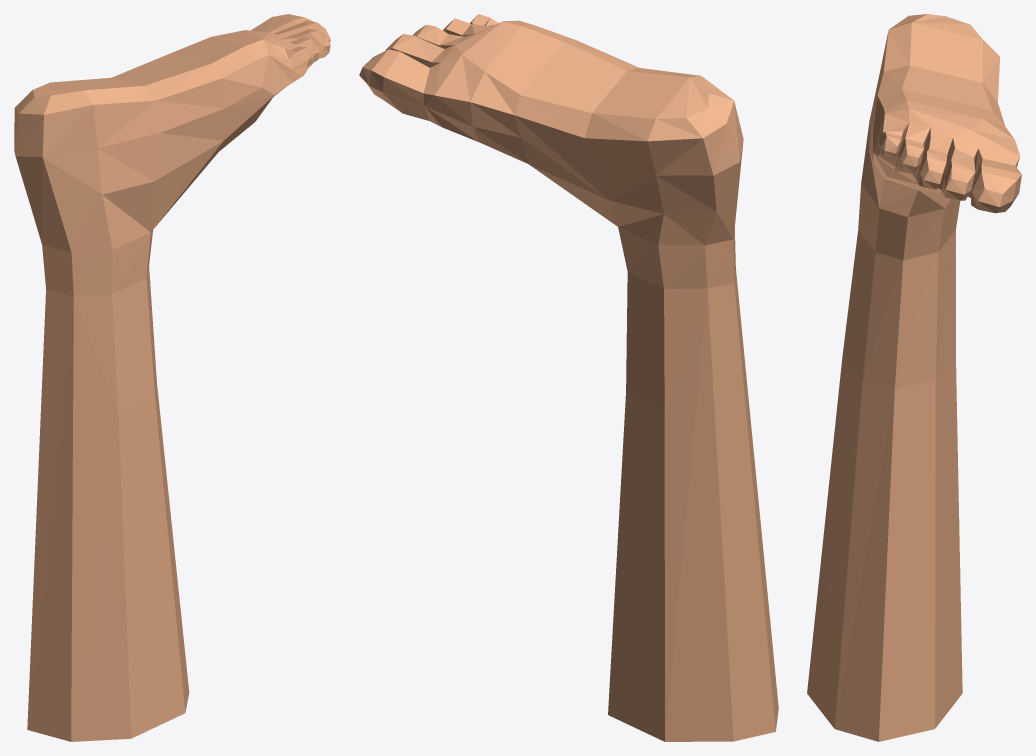
Rendered from hammer_8.FBX.
3 views of the same model, side by side, from view 1: azimuth 30°, elevation 25°; view 2: azimuth 150°, elevation 25°; view 3: azimuth 270°, elevation 25° (orthographic). The views are drawn at different scales.
Visible parts, largest first — view 1: hammer_8; view 2: hammer_8; view 3: hammer_8.
Boxes of the visible parts, left/top/right/bottom form: hammer_8: left=14, top=14, right=330, bottom=741; hammer_8: left=359, top=14, right=778, bottom=741; hammer_8: left=807, top=14, right=1021, bottom=741.
Size of the model in its own units: 71.2 by 124 by 35.45.
